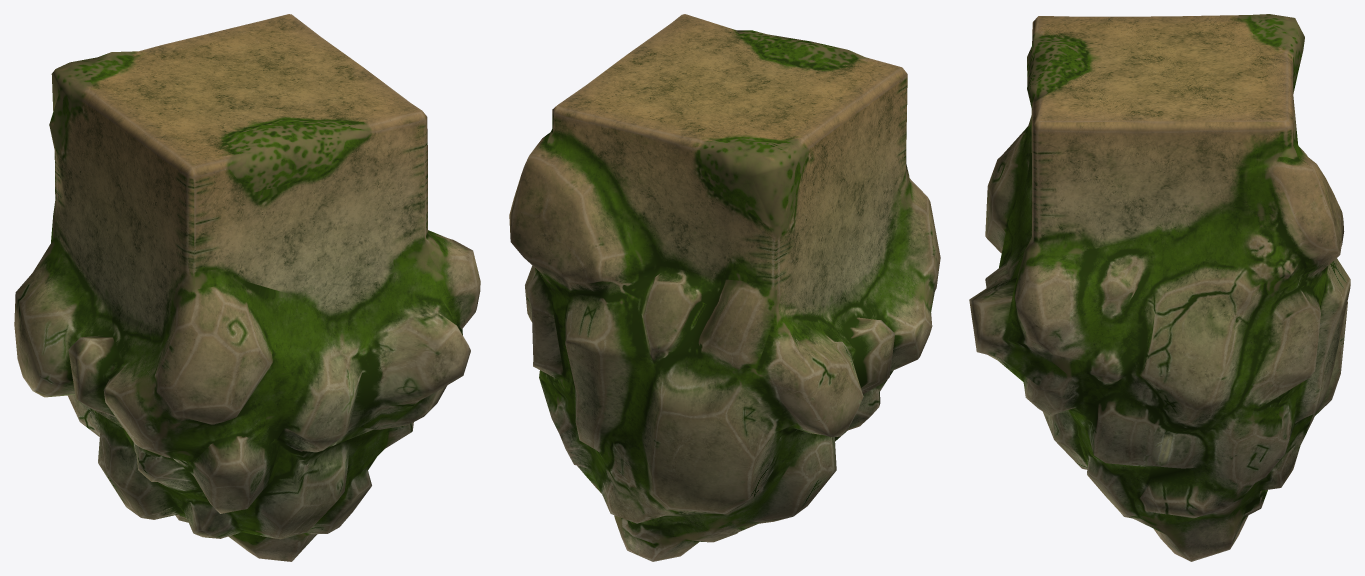
Rendered from Rune_03_low_02.fbx.
3 views of the same model, side by side, from view 1: azimuth 30°, elevation 25°; view 2: azimuth 150°, elevation 25°; view 3: azimuth 270°, elevation 25° (orthographic). The views are drawn at different scales.
Visible parts, largest first — view 1: Rune_03_low_02; view 2: Rune_03_low_02; view 3: Rune_03_low_02.
Part boxes in pixels (x1,y1,x2,y2): Rune_03_low_02: (14, 14, 480, 561); Rune_03_low_02: (509, 14, 940, 561); Rune_03_low_02: (969, 14, 1350, 561).
Bounding box in the file's own units: 2.96 × 3.96 × 2.93.
Materials: 1 (1 with a texture image).
